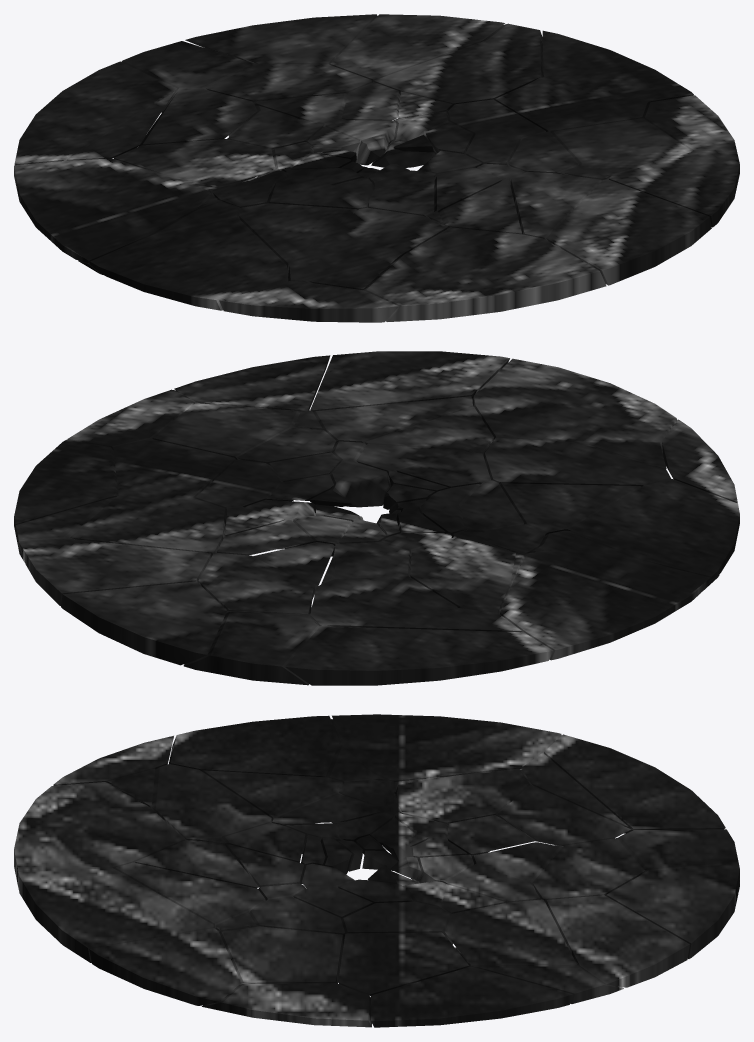
The model's file is lord_effect_8.fbx.
3 renders of one model, top to bottom at view 1: azimuth 30°, elevation 25°; view 2: azimuth 150°, elevation 25°; view 3: azimuth 270°, elevation 25°, orthographic.
Parts seen in each view (by area): view 1: Cylinder001_frag_059, Cylinder001_frag_067, Cylinder001_frag_057, Cylinder001_frag_071, Cylinder001_frag_077, Cylinder001_frag_064, Cylinder001_frag_058, Cylinder001_frag_076, Cylinder001_frag_075, Cylinder001_frag_074, Cylinder001_frag_072, Cylinder001_frag_069 (+37 smaller); view 2: Cylinder001_frag_067, Cylinder001_frag_077, Cylinder001_frag_059, Cylinder001_frag_057, Cylinder001_frag_076, Cylinder001_frag_071, Cylinder001_frag_064, Cylinder001_frag_058, Cylinder001_frag_075, Cylinder001_frag_065, Cylinder001_frag_035, Cylinder001_frag_074 (+37 smaller); view 3: Cylinder001_frag_059, Cylinder001_frag_067, Cylinder001_frag_071, Cylinder001_frag_077, Cylinder001_frag_064, Cylinder001_frag_057, Cylinder001_frag_074, Cylinder001_frag_072, Cylinder001_frag_076, Cylinder001_frag_075, Cylinder001_frag_051, Cylinder001_frag_062 (+38 smaller).
Part boxes in pixels (x1,y1,x2,y2): Cylinder001_frag_059: [362, 227, 606, 321]; Cylinder001_frag_067: [14, 158, 211, 262]; Cylinder001_frag_057: [89, 217, 288, 310]; Cylinder001_frag_071: [546, 179, 711, 285]; Cylinder001_frag_077: [14, 61, 176, 165]; Cylinder001_frag_064: [330, 14, 504, 82]; Cylinder001_frag_058: [288, 208, 447, 282]; Cylinder001_frag_076: [185, 14, 377, 64]; Cylinder001_frag_075: [374, 41, 540, 110]; Cylinder001_frag_074: [542, 30, 693, 104]; Cylinder001_frag_072: [608, 151, 739, 227]; Cylinder001_frag_069: [219, 281, 398, 322]; Cylinder001_frag_067: [500, 551, 710, 660]; Cylinder001_frag_077: [285, 626, 552, 685]; Cylinder001_frag_059: [472, 358, 677, 454]; Cylinder001_frag_057: [568, 479, 739, 579]; Cylinder001_frag_076: [61, 581, 226, 665]; Cylinder001_frag_071: [310, 351, 509, 411]; Cylinder001_frag_064: [19, 538, 211, 605]; Cylinder001_frag_058: [484, 437, 671, 486]; Cylinder001_frag_075: [70, 495, 226, 556]; Cylinder001_frag_065: [183, 608, 321, 685]; Cylinder001_frag_035: [410, 537, 515, 612]; Cylinder001_frag_074: [14, 439, 118, 531]; Cylinder001_frag_059: [14, 782, 184, 890]; Cylinder001_frag_067: [332, 714, 561, 782]; Cylinder001_frag_071: [18, 868, 213, 962]; Cylinder001_frag_077: [544, 734, 725, 833]; Cylinder001_frag_064: [546, 895, 689, 987]; Cylinder001_frag_057: [169, 715, 339, 776]; Cylinder001_frag_074: [371, 966, 572, 1027]; Cylinder001_frag_072: [89, 928, 240, 1005]; Cylinder001_frag_076: [606, 863, 739, 958]; Cylinder001_frag_075: [444, 899, 576, 965]; Cylinder001_frag_051: [218, 926, 343, 984]; Cylinder001_frag_062: [338, 932, 469, 996].
Size of the model in its own units: 14.79 by 0.8296 by 14.79.
